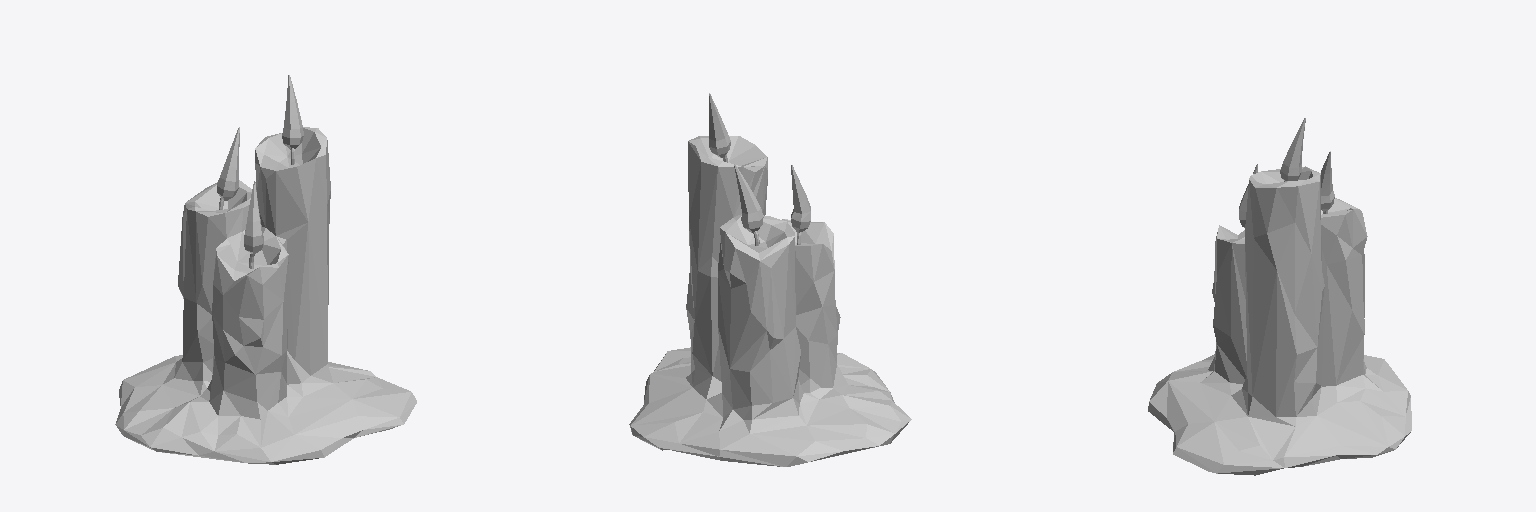
File: candle16.obj
3 views of the same model, side by side, from view 1: azimuth 30°, elevation 25°; view 2: azimuth 150°, elevation 25°; view 3: azimuth 270°, elevation 25° (orthographic).
Visible parts, largest first — view 1: Object003, candleflame003, candleflame002, candleflame001; view 2: Object003, candleflame002, candleflame003, candleflame001; view 3: Object003, candleflame003, candleflame002.
Boxes of the visible parts, x1,y1,x2,y2 form: Object003: [115, 127, 416, 464]; candleflame003: [282, 75, 303, 148]; candleflame002: [217, 127, 239, 200]; candleflame001: [244, 181, 263, 253]; Object003: [629, 136, 911, 466]; candleflame002: [734, 164, 763, 232]; candleflame003: [709, 93, 730, 157]; candleflame001: [791, 165, 810, 232]; Object003: [1148, 166, 1411, 475]; candleflame003: [1280, 118, 1305, 181]; candleflame002: [1321, 151, 1334, 211].
Size of the model in its own units: 1.05 by 1.24 by 0.9231.